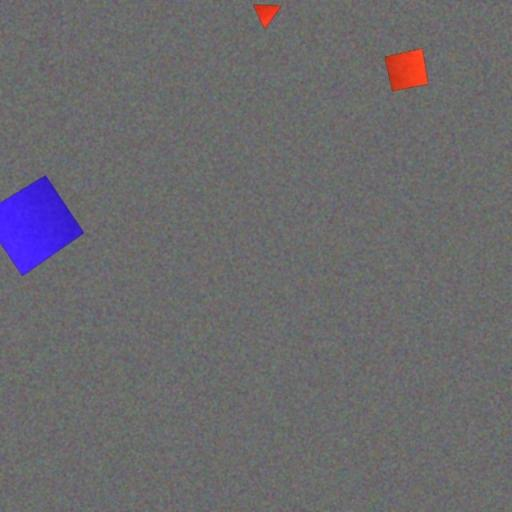BLUE_SQUARE: (0, 174, 85, 277)
RED_SQUARE: (384, 47, 430, 92)
